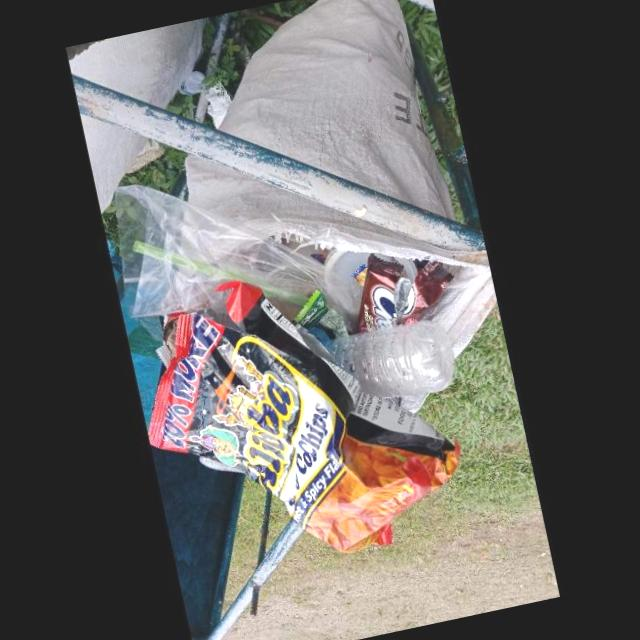bao_bi_thuc_pham: (147, 280, 462, 551), (358, 252, 455, 331), (294, 288, 349, 341)
chai_nhua_pet: (327, 318, 456, 397)
ong_hut_nhua: (133, 240, 311, 306)
tui_ni_long: (114, 183, 323, 319)
